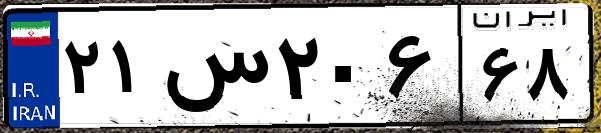0: (330, 28, 385, 110)
1: (110, 28, 158, 98)
2: (270, 28, 330, 110), (57, 26, 110, 100)
6: (385, 28, 445, 110), (475, 38, 525, 113)
8: (525, 38, 570, 115)
س: (158, 20, 270, 120)
